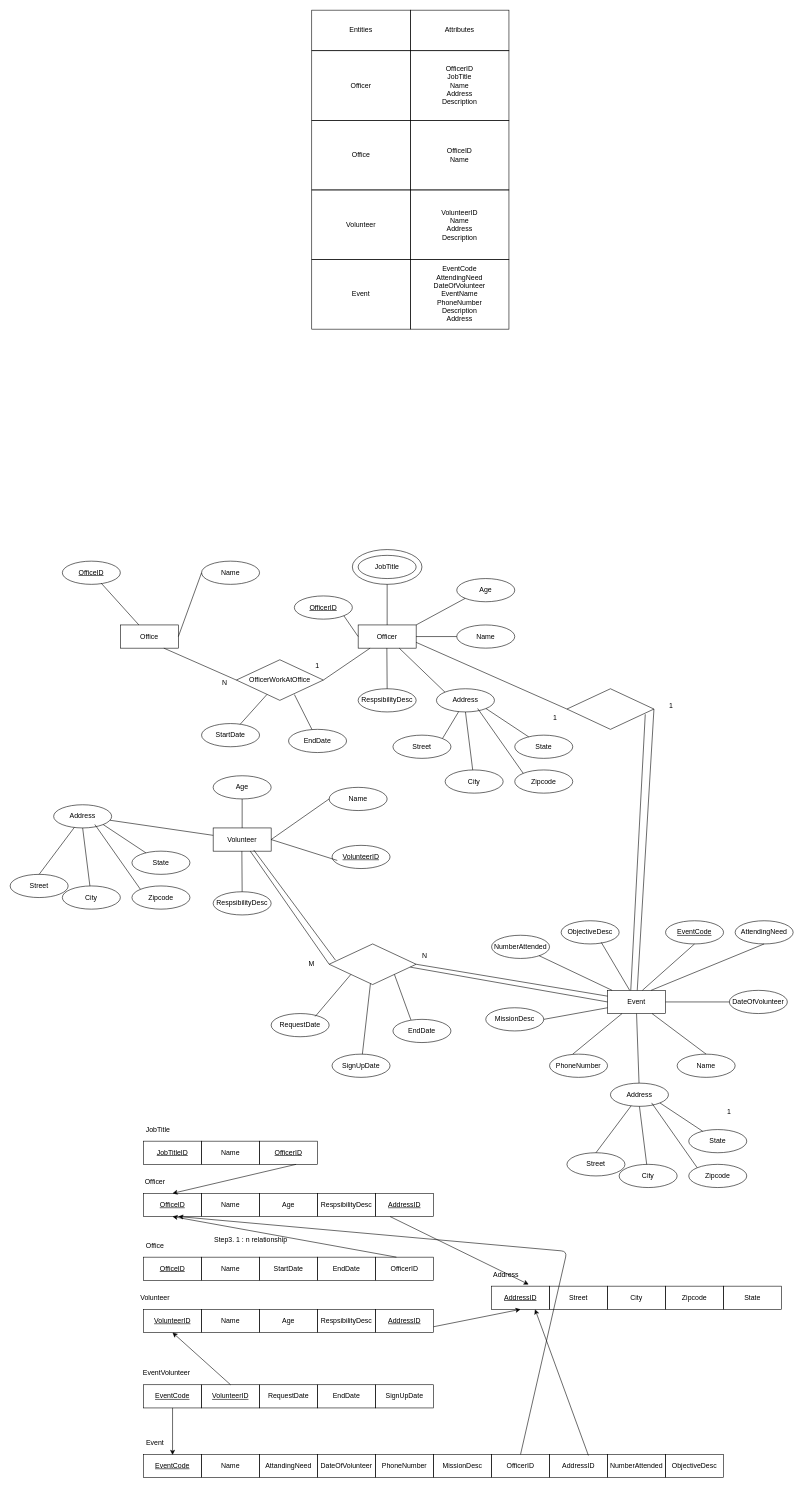
Some shapes in this 803 by 1488 pixel diagram are drawn without their labels. The centre of each missing label's shape, as x and y in pixels:
"OfficerInChargeOfEvent" belongs at point 610,708.
"VolunteerRegisterEvent" belongs at point 372,964.
